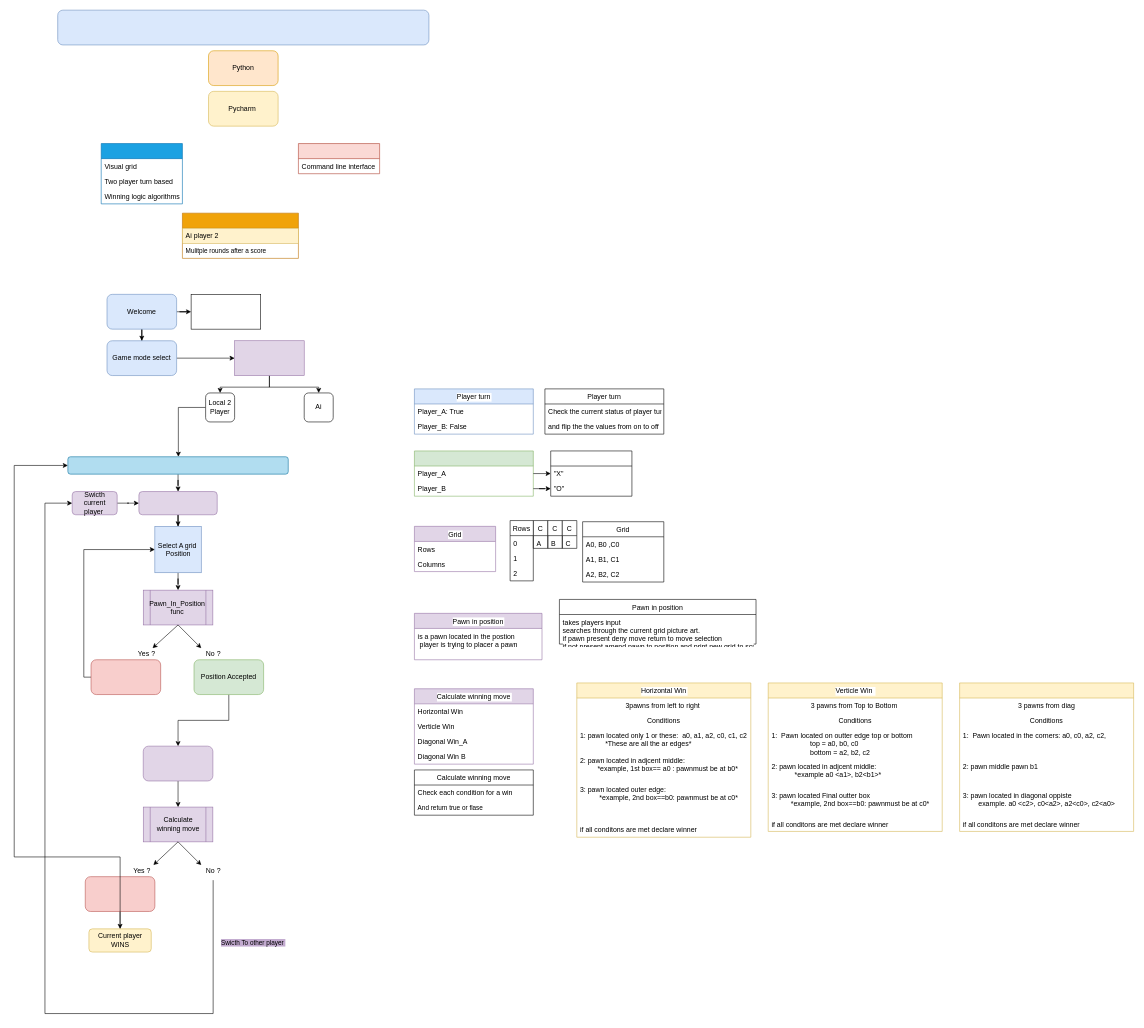
The diagram is 1144 pixels wide and 1028 high, and some of its shapes have lost their labels. The shapes that lost their labels are listed below. From the top down, each one's box as (x1, y1, x2, y2) in pixels, then its label:
(57, 10, 429, 45): TIC TAC TOE
(101, 143, 182, 204): Essential Features
(298, 143, 380, 174): Entities
(182, 213, 298, 258): Non Essential Features
(191, 294, 261, 329): Rules
(234, 340, 304, 376): Two Player or AI
(67, 456, 288, 474): Main Gameplay Loop
(414, 450, 533, 496): Players
(550, 450, 632, 496): Pawn
(138, 491, 217, 515): Current player_selection func
(90, 659, 161, 695): Select Different Position
(143, 746, 213, 781): Place Pawn
(959, 682, 1134, 831): diagonal Win
(85, 876, 155, 911): GameOver
